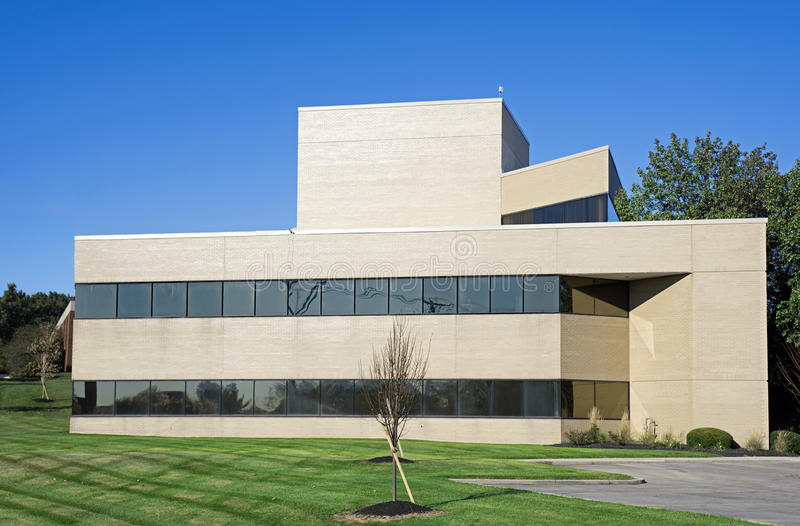Building House: (65, 89, 773, 455)
